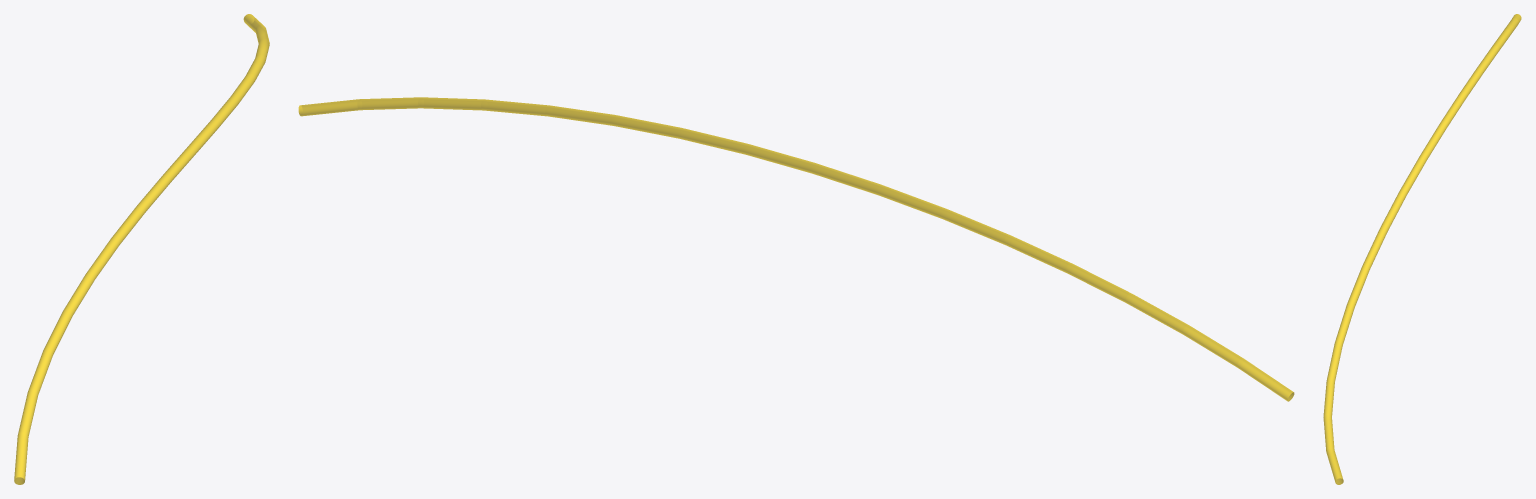
Rendered from Event_15818458_track_58.fbx.
3 views of the same model, side by side, from view 1: azimuth 90°, elevation 25°; view 2: azimuth 150°, elevation 25°; view 3: azimuth 270°, elevation 25° (orthographic). The views are drawn at different scales.
Parts seen in each view (by area): view 1: Model; view 2: Model; view 3: Model.
Boxes of the visible parts, box(x1,y1,x2,y2) form: Model: box(14, 14, 269, 484); Model: box(298, 97, 1294, 401); Model: box(1323, 14, 1521, 484).
Bounding box in the file's own units: 4.58 × 0.5211 × 0.9317.
